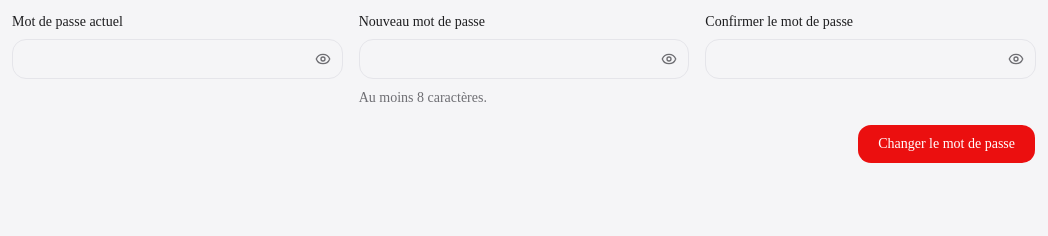
it: ChangePasswordForm › clears the fields after a successful change
The width and height of the screenshot is (1048, 236).
Type "Password123!" into the password field labelled "Mot de passe actuel" at point(177, 59), box [12, 39, 343, 79]
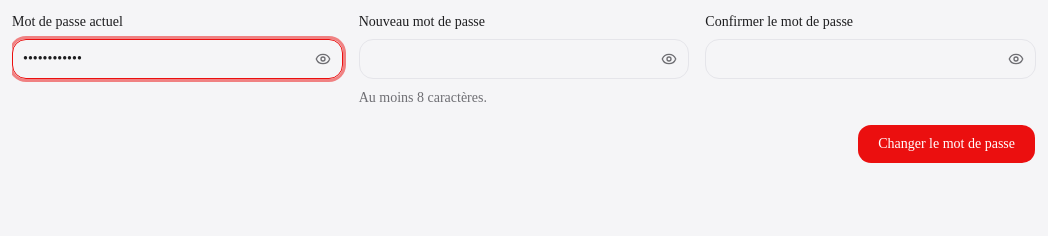
Type "NouveauMdp2026!" into the password field labelled "Nouveau mot de passe" at point(524, 59), box [359, 39, 689, 79]
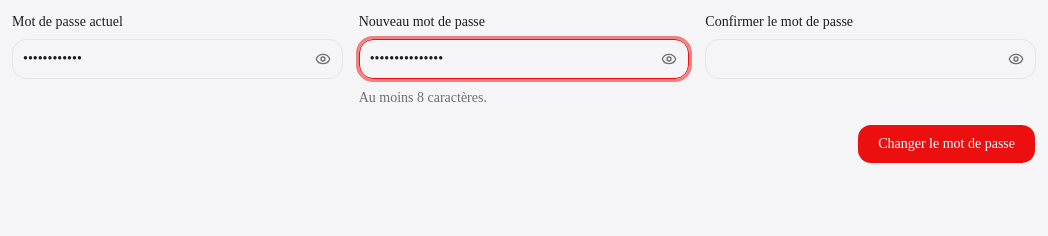
Type "NouveauMdp2026!" into the password field labelled "Confirmer le mot de passe" at point(871, 59), box [705, 39, 1036, 79]
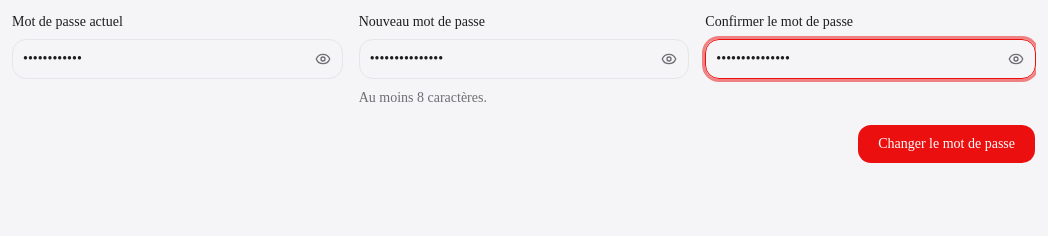
Click the button "Changer le mot de passe" at point(947, 144), box [857, 124, 1036, 164]
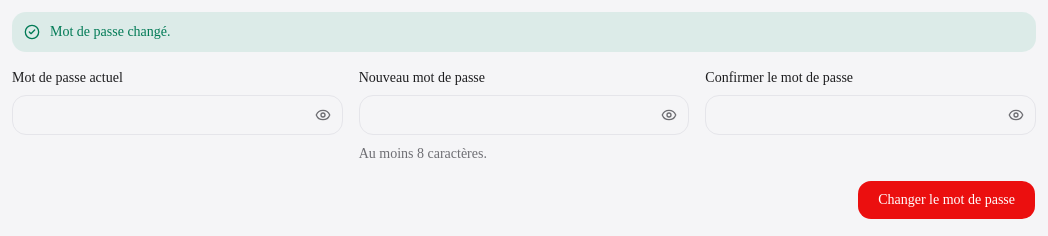
Check: the message reads "Mot de passe changé.", box [50, 24, 170, 39]
Check: the password field labelled "Mot de passe actuel" is empty, box [12, 95, 343, 135]
